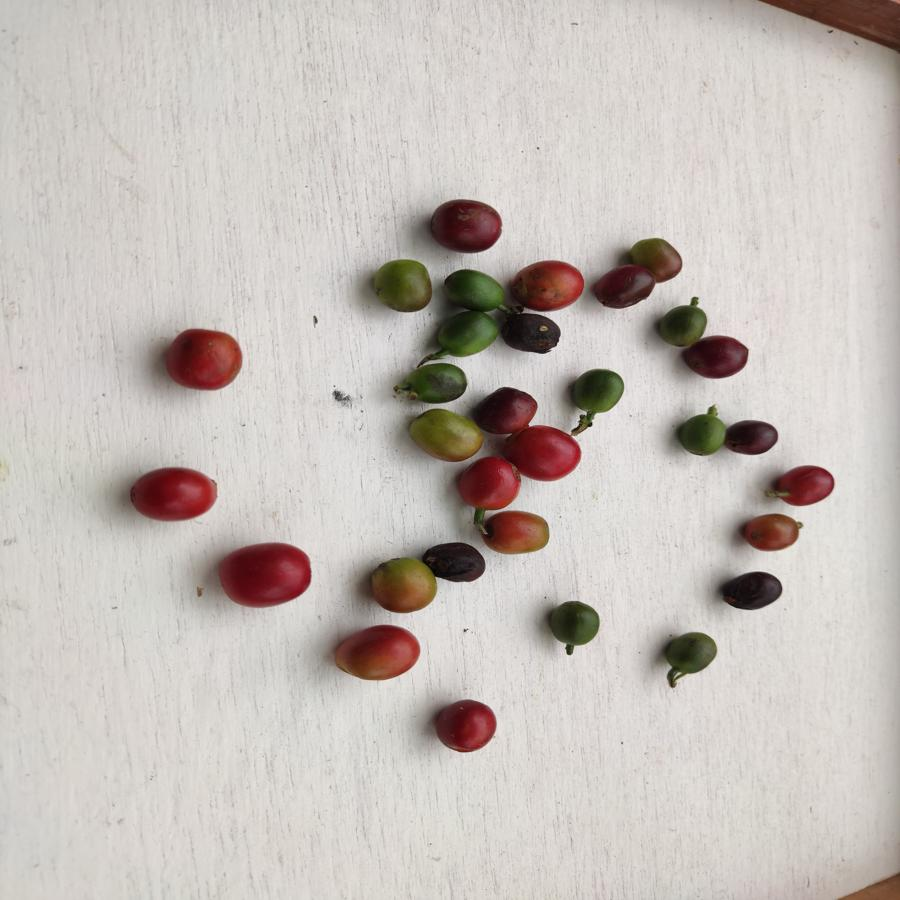Inmaduro: (399, 359, 469, 406), (657, 628, 719, 679), (548, 600, 601, 652), (568, 370, 629, 415), (676, 409, 729, 458), (437, 312, 498, 354), (442, 268, 507, 306)
Maduro: (215, 544, 319, 608), (127, 461, 221, 525), (336, 620, 424, 685), (161, 327, 247, 390), (429, 700, 505, 760), (510, 257, 587, 307), (511, 427, 581, 481), (460, 458, 525, 511), (772, 465, 837, 512)
Pinton: (407, 407, 484, 462), (481, 508, 555, 560), (372, 254, 434, 315), (369, 557, 438, 611), (743, 509, 801, 558), (630, 237, 685, 284)
Sobremaduro: (426, 196, 504, 256), (473, 384, 542, 434), (683, 336, 750, 383), (500, 310, 565, 358), (719, 568, 783, 615), (595, 263, 653, 313), (426, 542, 491, 585), (728, 417, 781, 462)
